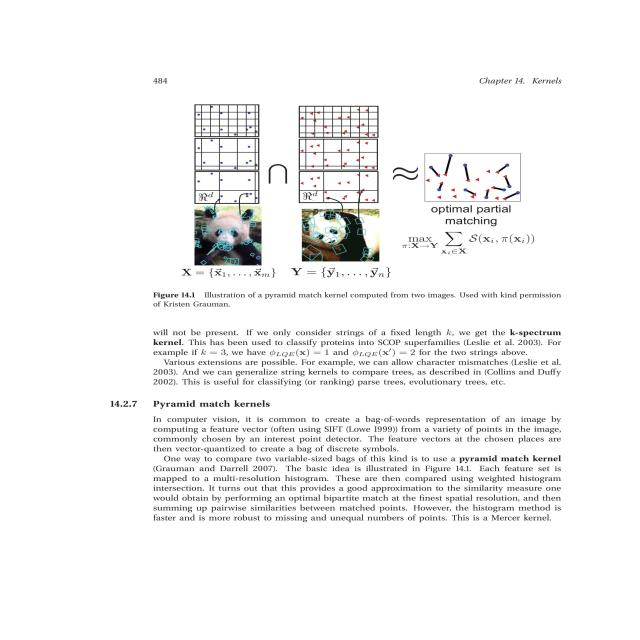diagram: (110, 95, 145, 128)
